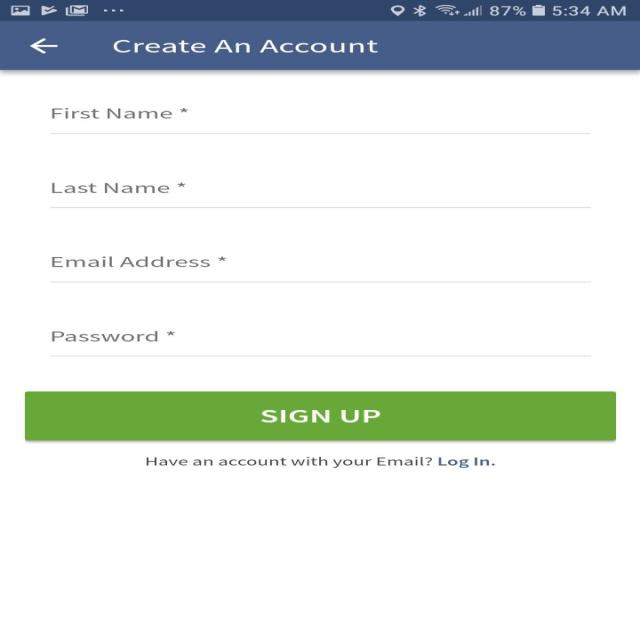EditText: (48, 256, 590, 283), (49, 182, 591, 208), (49, 108, 591, 134), (49, 331, 591, 356)
Icon: (30, 37, 59, 54)
Text: (145, 457, 496, 468), (113, 39, 378, 53), (50, 256, 226, 267), (51, 108, 188, 120), (52, 331, 176, 342), (51, 183, 186, 193)
TextButton: (24, 391, 615, 441)
